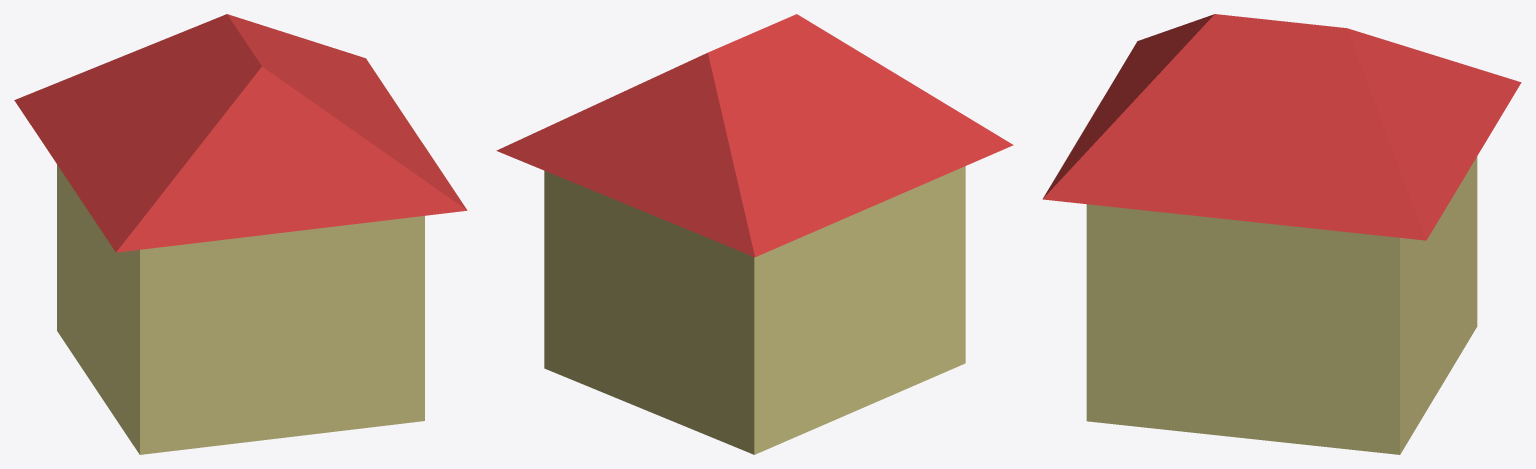
3 views of the same model, side by side, from view 1: azimuth 30°, elevation 25°; view 2: azimuth 150°, elevation 25°; view 3: azimuth 270°, elevation 25° (orthographic). The views are drawn at different scales.
Visible parts, largest first — view 1: group_5, group_3, group_4; view 2: group_5, group_3, group_4; view 3: group_5, group_3, group_4.
Boxes of the visible parts, x1,y1,x2,y2 form: group_5: (57,164,424,454); group_3: (14,14,466,252); group_4: (14,46,467,251); group_5: (544,166,965,454); group_3: (496,14,965,256); group_4: (497,108,1013,256); group_5: (1086,156,1477,454); group_3: (1042,14,1517,240); group_4: (1043,67,1521,240).
Bounding box in the file's own units: 12.95 × 13.14 × 10.73.
